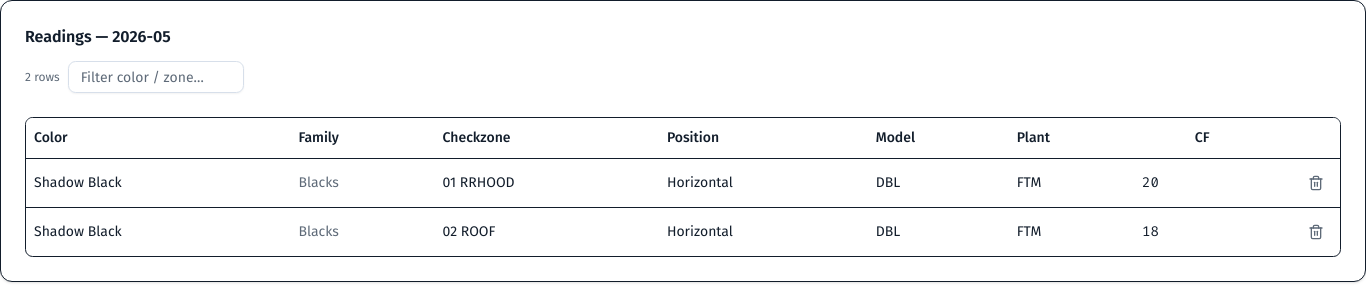
Test: the filter box narrows visible rows by zone/color
Check: the button "01 RRHOOD" is shown, box x1=438 y1=170 x2=655 y2=194
Type "ROOF" into the field with placeholder "Filter color / zone…" at (156, 77), box x1=68 y1=61 x2=244 y2=93
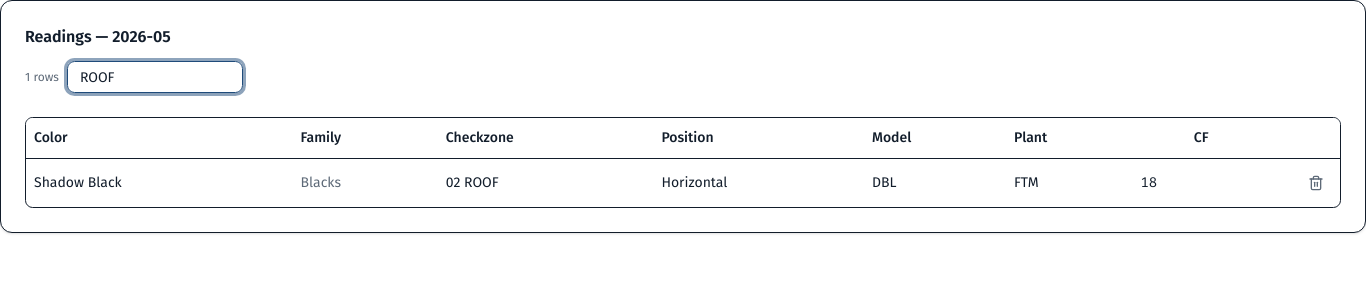
Check: the button "02 ROOF" is shown, box x1=442 y1=170 x2=650 y2=194
Check: the button "01 RRHOOD" is gone
